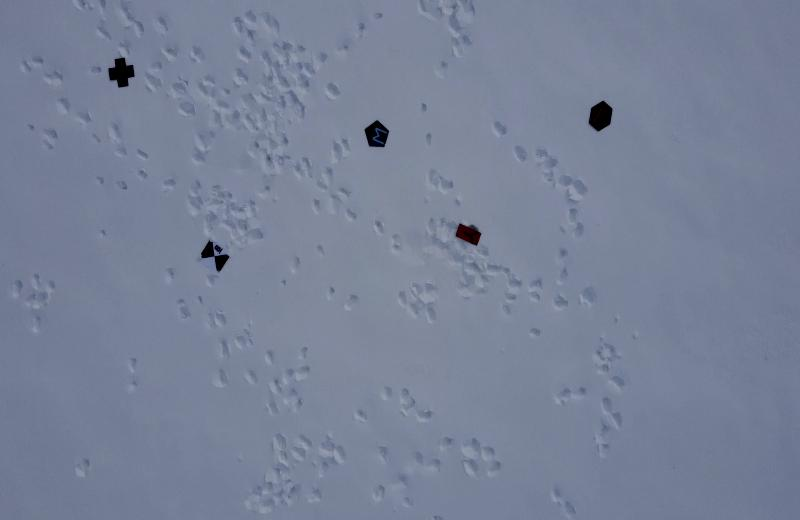Cross: (104, 55, 136, 88)
Hexagon: (584, 96, 615, 132)
Pentagon: (361, 115, 390, 150)
Rectangle: (452, 219, 485, 249)
